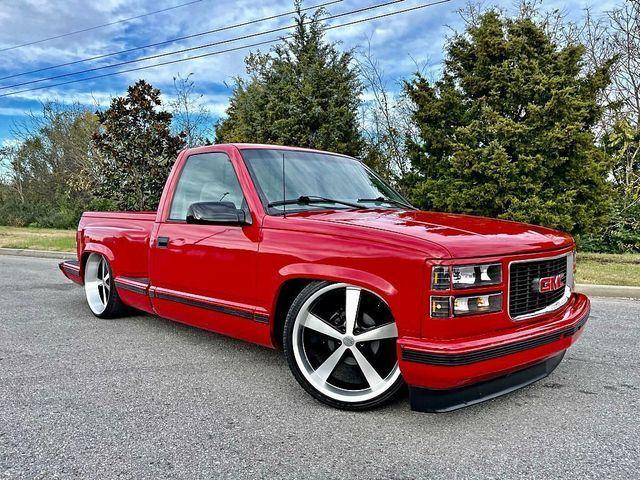pickup-truck: (58, 143, 592, 414)
